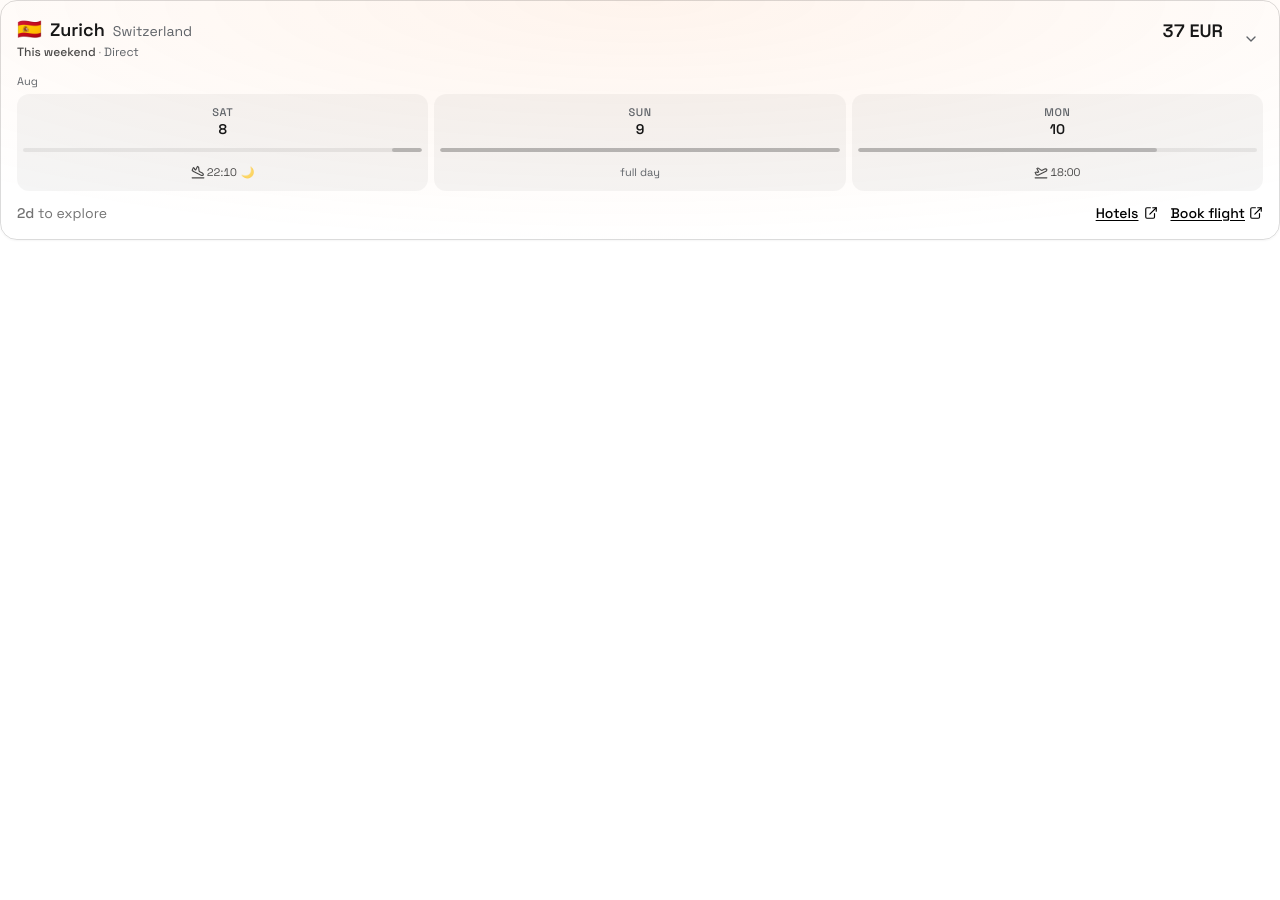
Test case: DealCard — regional holidays › names the city for a genuinely national holiday
Click the button named "show details for": point(1251, 39) [1235,17,1267,61]
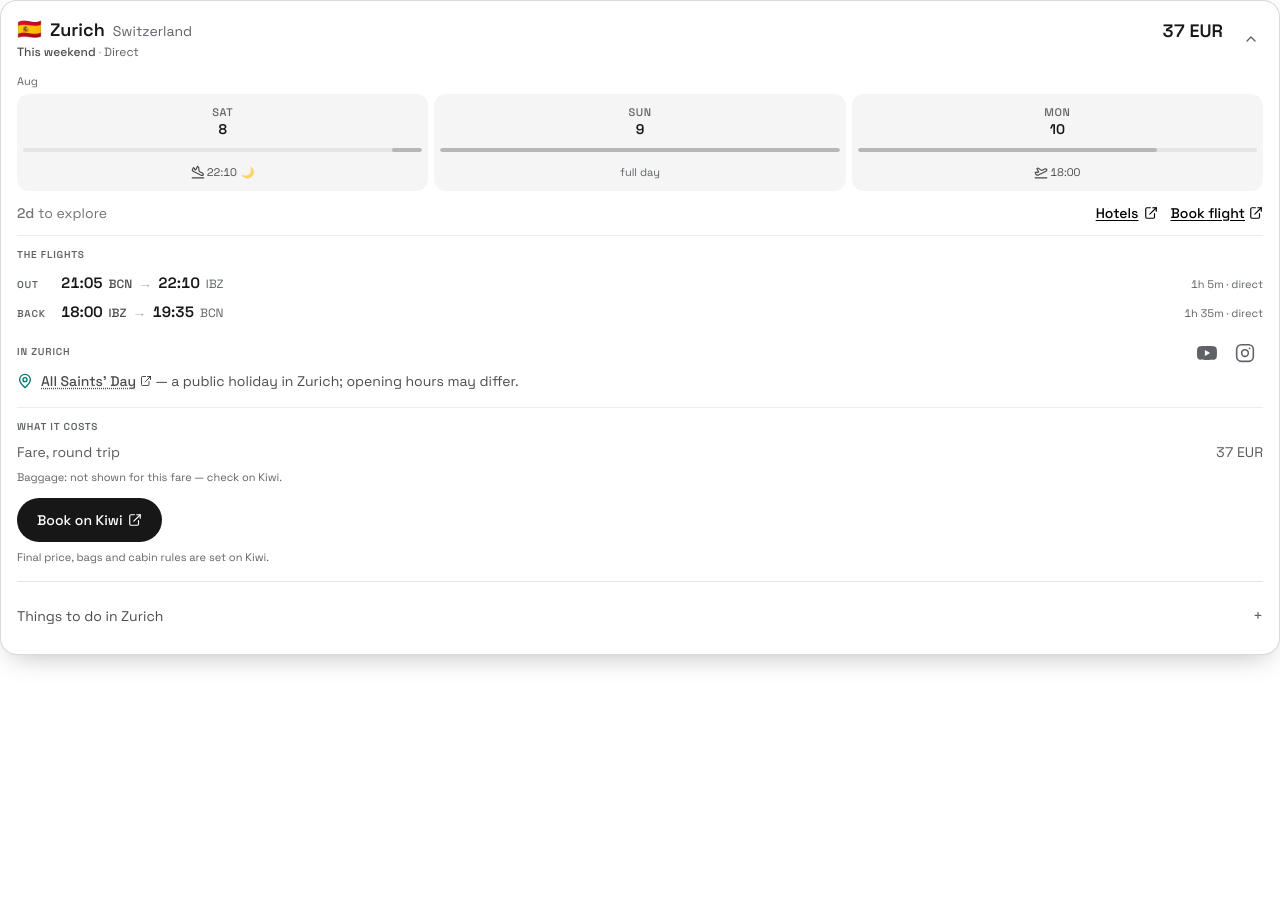
Expected: the text "a public holiday in Zurich" is shown, [171,372,339,390]
